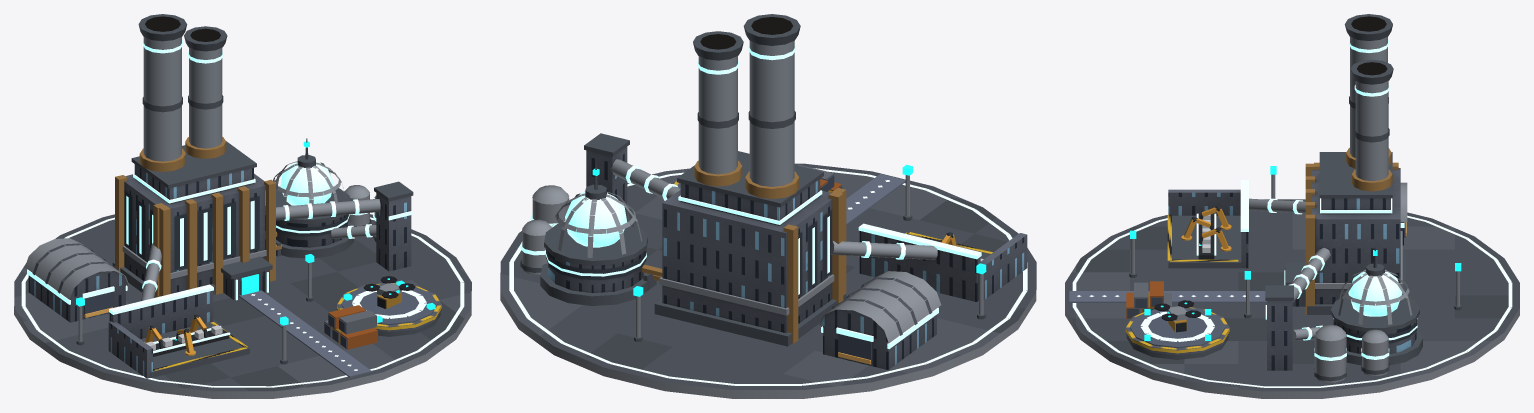
Rendered from factory_l3.glb.
3 views of the same model, side by side, from view 1: azimuth 30°, elevation 25°; view 2: azimuth 150°, elevation 25°; view 3: azimuth 270°, elevation 25° (orthographic). The views are drawn at different scales.
Parts seen in each view (by area): view 1: factory_l3; view 2: factory_l3; view 3: factory_l3.
Boxes of the visible parts, x1,y1,x2,y2 form: factory_l3: [14, 14, 471, 398]; factory_l3: [500, 14, 1036, 398]; factory_l3: [1065, 14, 1519, 398].
Bounding box in the file's own units: 1.43 × 0.896 × 1.43.
Materials: 4 (1 with a texture image).
